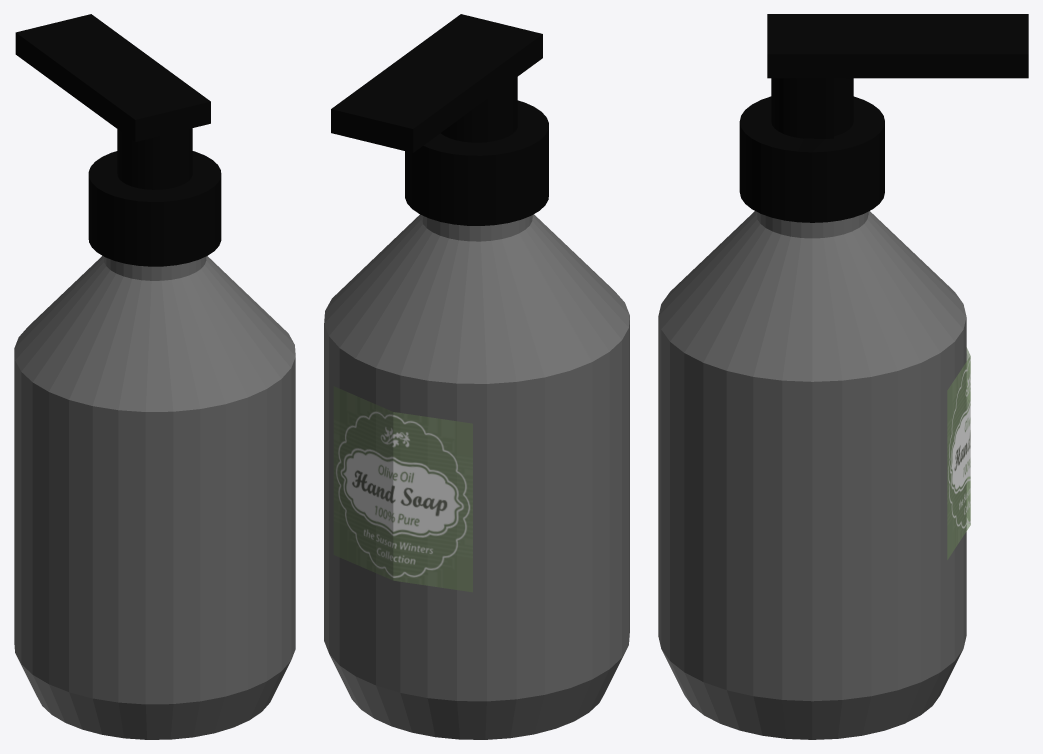
Rendered from soap.glb.
3 renders of one model, left to right at view 1: azimuth 30°, elevation 25°; view 2: azimuth 150°, elevation 25°; view 3: azimuth 270°, elevation 25°, orthographic. The views are drawn at different scales.
Visible parts, largest first — view 1: base, Cylinder; view 2: base, Cylinder, decor-soap-label; view 3: base, Cylinder, decor-soap-label.
Boxes of the visible parts, x1,y1,x2,y2 form: base: (14, 256, 295, 739); Cylinder: (15, 14, 221, 266); base: (324, 214, 629, 739); Cylinder: (331, 14, 548, 225); decor-soap-label: (333, 386, 472, 592); base: (658, 211, 966, 739); Cylinder: (739, 14, 1028, 222); decor-soap-label: (947, 348, 970, 559).
Size of the model in its own units: 2 by 4.65 by 2.4.
3 materials, 1 textured.
